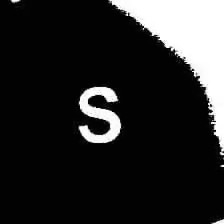LTR_S: (77, 82, 125, 145)
